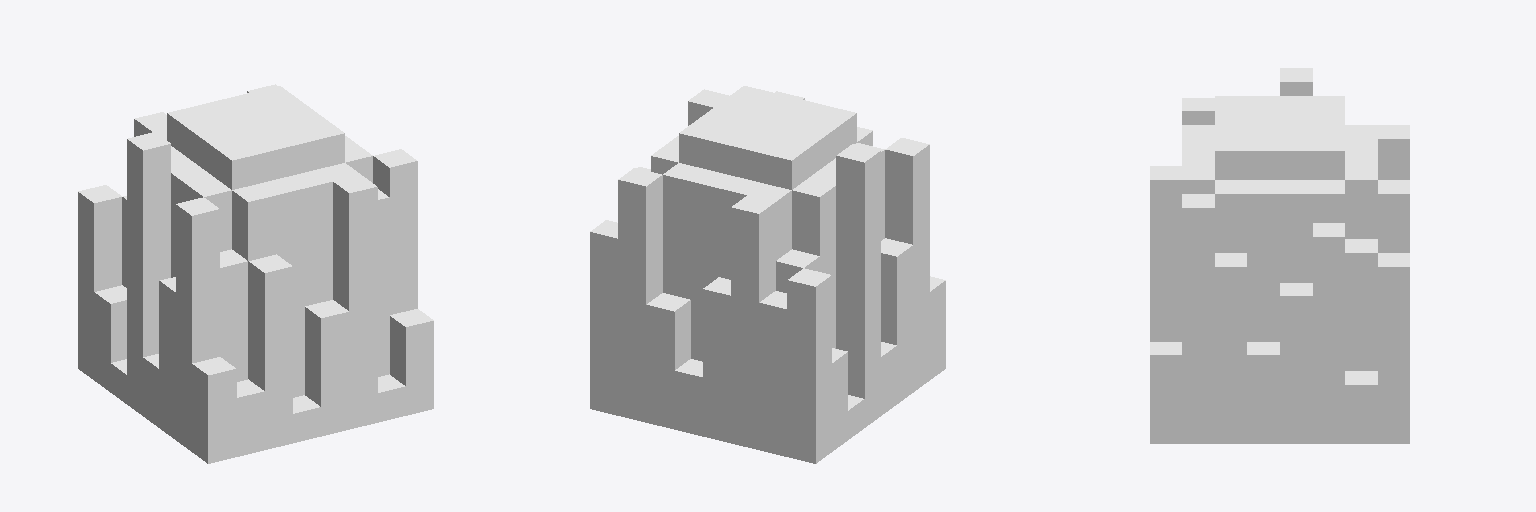
Rendered from grass-montain6.obj.
3 renders of one model, left to right at view 1: azimuth 30°, elevation 25°; view 2: azimuth 150°, elevation 25°; view 3: azimuth 270°, elevation 25°, orthographic.
Parts seen in each view (by area): view 1: object 1; view 2: object 1; view 3: object 1.
Part boxes in pixels (x1,y1,x2,y2): object 1: (78, 84, 433, 463); object 1: (590, 86, 945, 463); object 1: (1150, 68, 1409, 443).
Size of the model in its own units: 0.8 by 0.9 by 0.8.